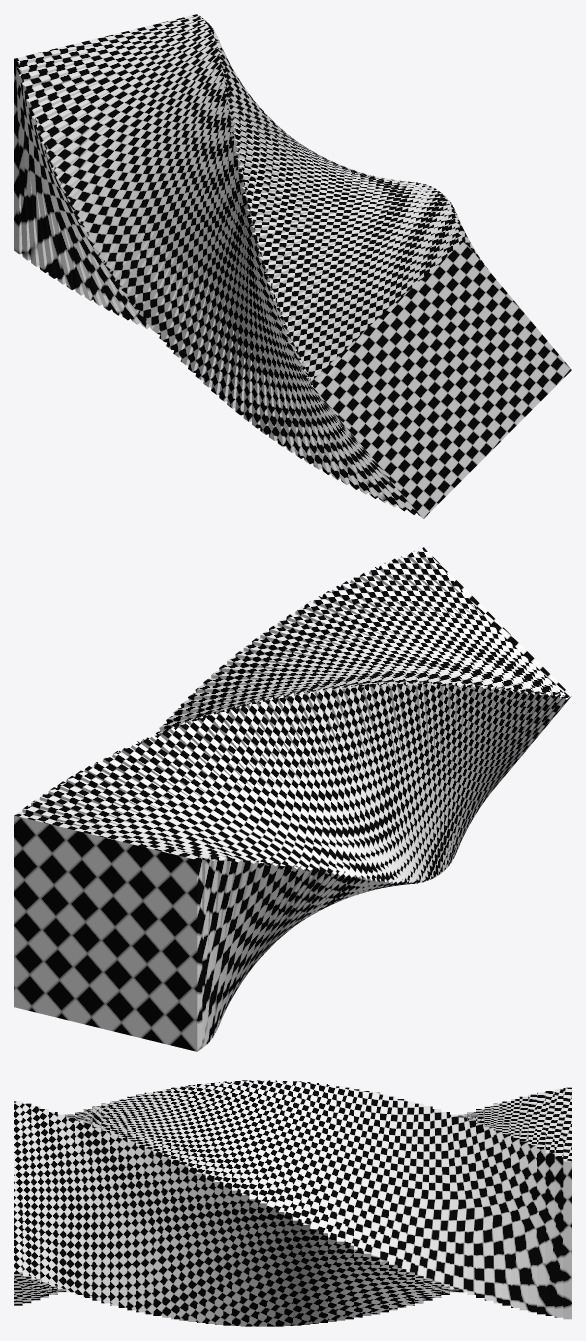
File: geometric.obj
3 views of the same model, one above another, from view 1: azimuth 30°, elevation 25°; view 2: azimuth 150°, elevation 25°; view 3: azimuth 270°, elevation 25° (orthographic). The views are drawn at different scales.
Bounding box in the file's own units: 14.14 × 14.14 × 32.
